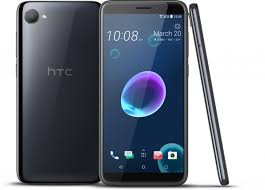htc: (97, 1, 190, 189), (13, 1, 104, 186)
